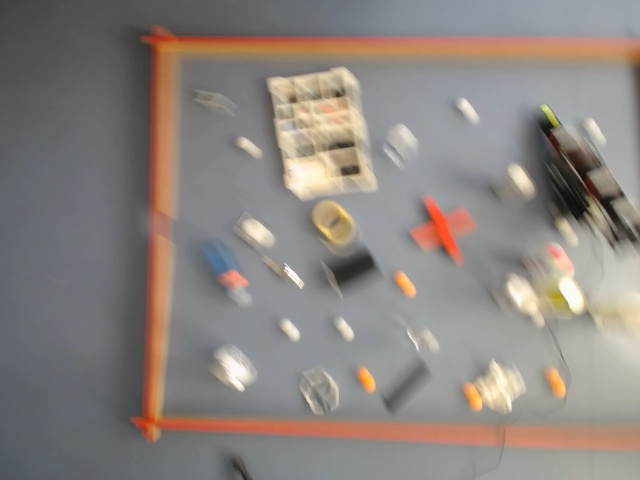robot: (536, 100, 640, 408)
